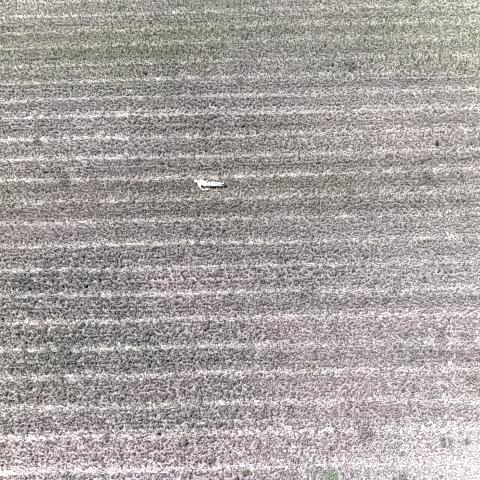person: (192, 176, 228, 194)
